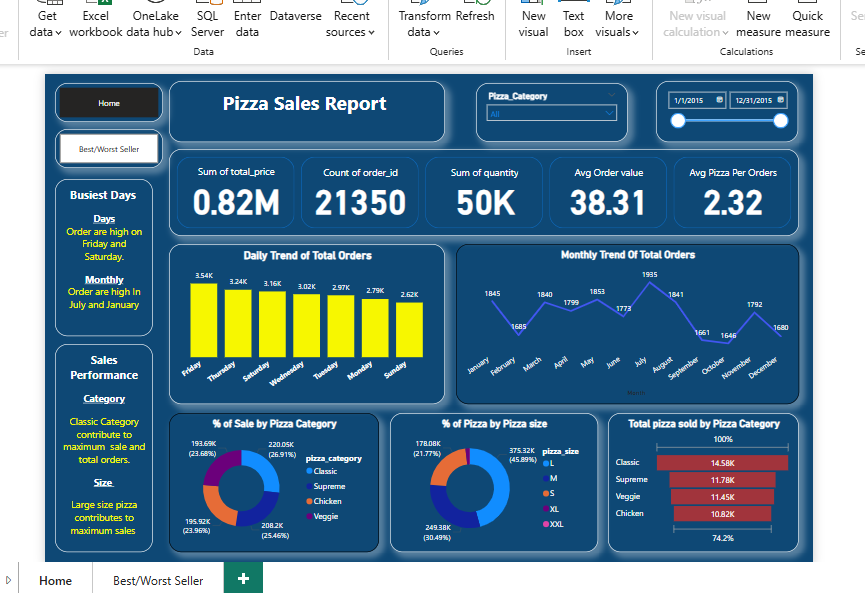

What the dashboard file says about the page in this screenshot:
{"tool":"powerbi","page":{"name":"Home","canvas":[1280,820],"ordinal":0},"visuals":[{"type":"cardVisual","fields":{"Data":["Sum(pizza_sales.total_price)","Count(pizza_sales.order_id)","Sum(pizza_sales.quantity)","pizza_sales.Avg Order value","pizza_sales.Avg Pizza Per Orders"]},"box":[206.7,125,1050,145],"z":0},{"type":"areaChart","title":"Monthly Trend Of Total Orders","fields":{"Category":["pizza_sales.order_date.Variation.Date Hierarchy.Month"],"Y":["Count(pizza_sales.order_id)"]},"box":[685,283.3,571.7,266.7],"z":1000},{"type":"columnChart","title":"Daily Trend of Total Orders","fields":{"Category":["pizza_sales.Day Name"],"Y":["Count(pizza_sales.order_id)"]},"box":[206.7,283.3,460,266.7],"z":2000},{"type":"donutChart","title":"% of Sale by Pizza Category","fields":{"Category":["pizza_sales.pizza_category"],"Y":["Sum(pizza_sales.total_price)"]},"box":[206.7,565,350,231.7],"z":3000},{"type":"donutChart","title":"% of Pizza by Pizza size","fields":{"Category":["pizza_sales.pizza_size"],"Y":["Sum(pizza_sales.total_price)"]},"box":[575,565,346.7,231.7],"z":4000},{"type":"funnel","title":"Total pizza sold by Pizza Category","fields":{"Category":["pizza_sales.pizza_category"],"Y":["CountNonNull(pizza_sales.pizza_id)"]},"box":[938.3,565,318.3,231.7],"z":5000},{"type":"textbox","box":[206.7,11.7,460,101.7],"z":6000},{"type":"slicer","title":"Order Date","fields":{"Values":["pizza_sales.order_date"]},"box":[1018.3,11.7,236.7,101.7],"z":7000},{"type":"textbox","box":[16.7,175,163.3,261.7],"z":8000},{"type":"textbox","box":[16.7,450,163.3,346.7],"z":9000},{"type":"slicer","fields":{"Values":["pizza_sales.pizza_category"]},"box":[718.3,15,253.3,98.3],"z":10000},{"type":"pageNavigator","box":[16.7,15,180,65],"z":10001},{"type":"pageNavigator","box":[16.7,91.7,180,65],"z":10002}]}

Visuals, with their boxes on the page's 1280x820 design canvas (x1, y1, x2, y2). These are canvas units, not pixel positions in the 865x593 screenshot, which may show the page scaled, cropped or inside an application window:
cardVisual - Sum(pizza_sales.total_price) x Count(pizza_sales.order_id): Rect(207, 125, 1257, 270)
"Monthly Trend Of Total Orders" areaChart: Rect(685, 283, 1257, 550)
"Daily Trend of Total Orders" columnChart: Rect(207, 283, 667, 550)
"% of Sale by Pizza Category" donutChart: Rect(207, 565, 557, 797)
"% of Pizza by Pizza size" donutChart: Rect(575, 565, 922, 797)
"Total pizza sold by Pizza Category" funnel: Rect(938, 565, 1257, 797)
textbox: Rect(207, 12, 667, 113)
"Order Date" slicer: Rect(1018, 12, 1255, 113)
textbox: Rect(17, 175, 180, 437)
textbox: Rect(17, 450, 180, 797)
slicer - pizza_sales.pizza_category: Rect(718, 15, 972, 113)
pageNavigator: Rect(17, 15, 197, 80)
pageNavigator: Rect(17, 92, 197, 157)
